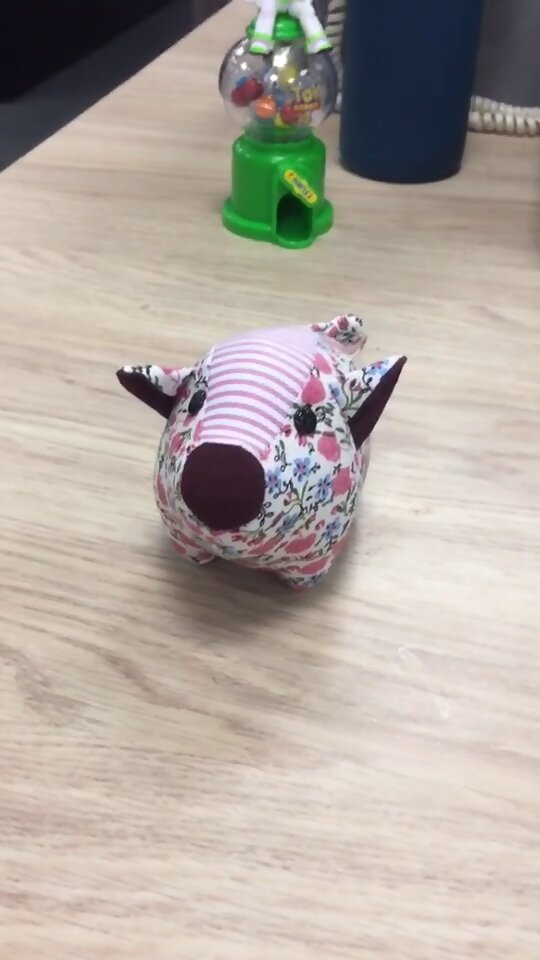pig: (110, 313, 410, 596)
